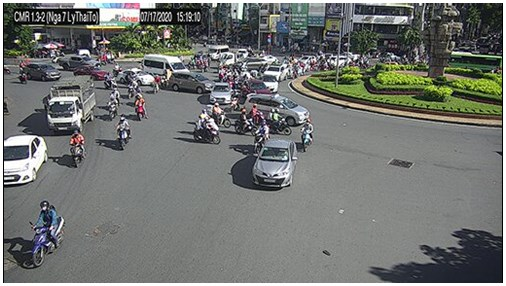xe_ban_tai: (59, 55, 101, 71)
xe_buyt: (445, 50, 503, 73)
xe_hoi: (244, 94, 310, 127), (4, 135, 48, 184), (252, 140, 294, 187), (169, 71, 213, 94), (27, 63, 61, 81), (72, 65, 109, 81), (208, 83, 232, 104), (244, 80, 272, 98), (263, 66, 289, 82), (261, 75, 279, 95)
xe_khach: (144, 54, 190, 80), (208, 45, 230, 59)
xe_may: (32, 201, 65, 268), (192, 108, 221, 145), (267, 108, 291, 136), (69, 129, 86, 168), (207, 102, 231, 129), (234, 108, 258, 135), (253, 118, 270, 156), (115, 114, 132, 150), (301, 117, 314, 153), (248, 103, 266, 126), (135, 93, 148, 121), (103, 70, 118, 91), (127, 78, 141, 98), (108, 94, 117, 120), (152, 73, 161, 95), (18, 68, 28, 84), (201, 57, 211, 72), (216, 66, 225, 82), (187, 56, 196, 68)
xe_tai: (45, 80, 95, 133)
